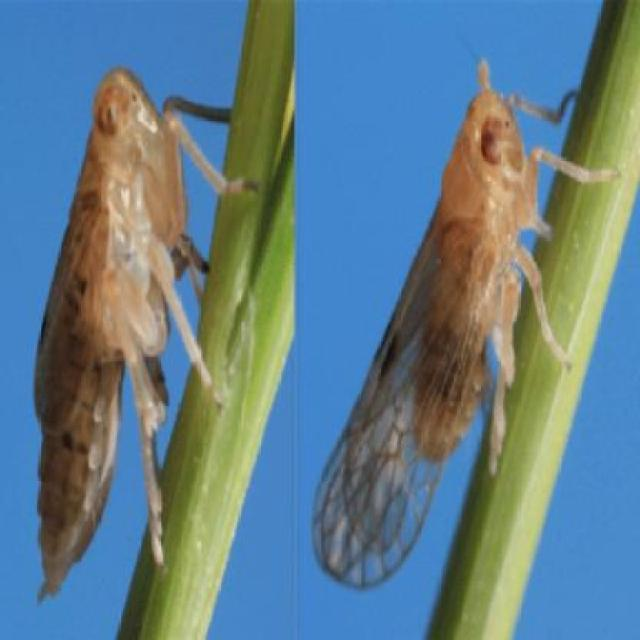brown-planthopper: (312, 63, 551, 593), (31, 67, 208, 630)
